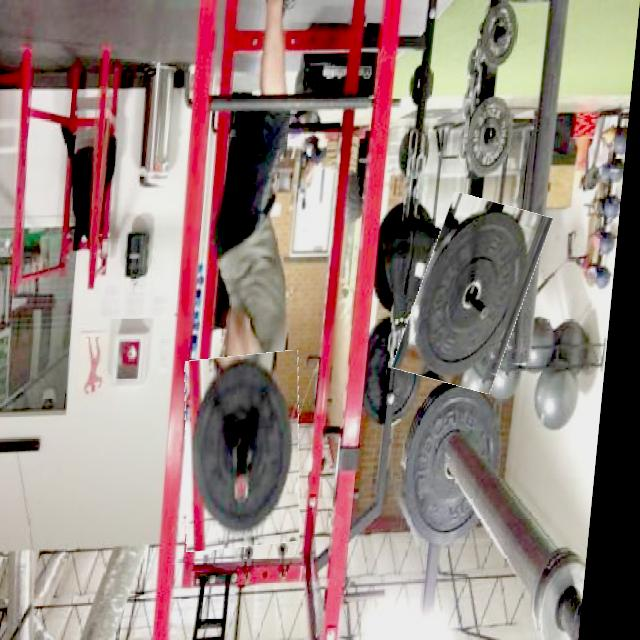barbell: (184, 353, 321, 551), (410, 198, 550, 390)
